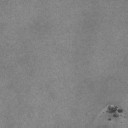iron sheet ash: (105, 106, 124, 118)
